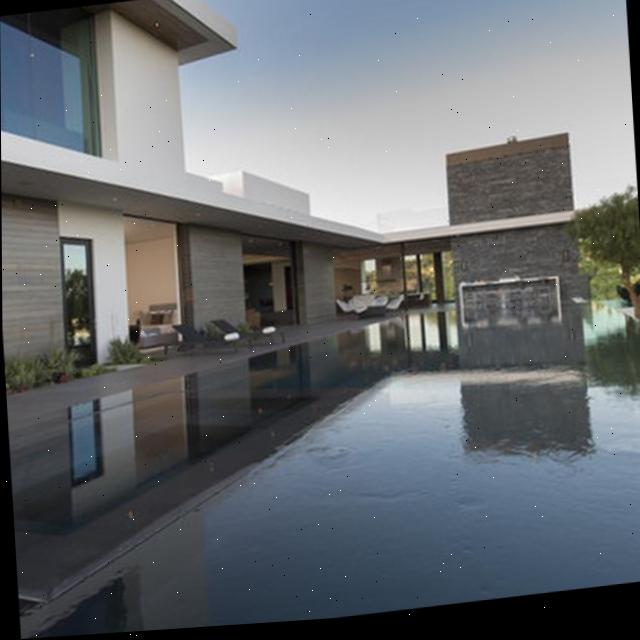building: (0, 0, 390, 374), (440, 130, 587, 330)
